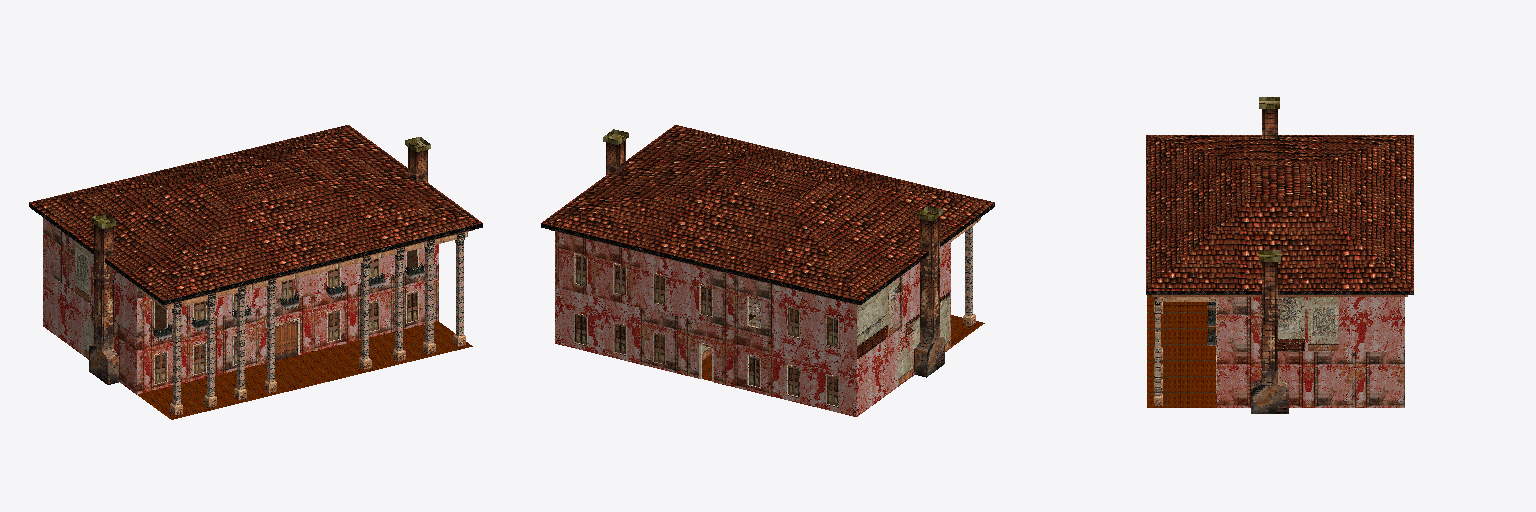
The picture shows the model from 3 angles: view 1: azimuth 30°, elevation 25°; view 2: azimuth 150°, elevation 25°; view 3: azimuth 270°, elevation 25°; orthographic projection.
Visible parts, largest first — view 1: S1Roof01-00.S1Roof01-00_S1Roof01-00, SHHWalls1stFlrOut01-00.SHHWalls1stFlrOut01-00_SHHWalls1stFlrOut0, Plane, SHHWalls2ndFlrOutSde01-00.SHHWalls2ndFlrOutSde01-00_SHHWalls2ndF, S1Chiminey02-00.S1Chiminey02-01.001_S1Chiminey02-00.001, SRoofMoldng01-00.SRoofMoldng01-00_SRoofMoldng01-00, S1pilars01-00.S1pilars01-04.005_S1pilars01-00.018, S1pilars01-00.S1pilars01-04.001_S1pilars01-00.006, S1pilars01-00.S1pilars01-04.004_S1pilars01-00.017, S1pilars01-00.S1pilars01-04_S1pilars01-00, S1pilars01-00.S1pilars01-04.006_S1pilars01-00.019, S1pilars01-00.S1pilars01-04.002_S1pilars01-00.007 (+5 smaller); view 2: S1Roof01-00.S1Roof01-00_S1Roof01-00, SHHWalls1stFlrOut01-00.SHHWalls1stFlrOut01-00_SHHWalls1stFlrOut0, SHHWalls2ndFlrOutSde01-00.SHHWalls2ndFlrOutSde01-00_SHHWalls2ndF, S1Chiminey02-00.S1Chiminey02-01.001_S1Chiminey02-00.001, SHHWallLspiso02-00.SHHWallLspiso02-00_SHHWallLspiso02-00, SHHWallLspiso01-00.SHHWallLspiso01-00_SHHWallLspiso01-00, S1Chiminey02-00.S1Chiminey02-01_S1Chiminey02-00, S1pilars01-00.S1pilars01-04_S1pilars01-00, Plane; view 3: S1Roof01-00.S1Roof01-00_S1Roof01-00, SHHWalls1stFlrOut01-00.SHHWalls1stFlrOut01-00_SHHWalls1stFlrOut0, SHHWalls2ndFlrOutSde01-00.SHHWalls2ndFlrOutSde01-00_SHHWalls2ndF, Plane, S1Chiminey02-00.S1Chiminey02-01_S1Chiminey02-00, SHHWallLspiso02-00.SHHWallLspiso02-00_SHHWallLspiso02-00, S1Chiminey02-00.S1Chiminey02-01.001_S1Chiminey02-00.001, S1pilars01-00.S1pilars01-04.004_S1pilars01-00.017.
Boxes of the visible parts, x1=… form: S1Roof01-00.S1Roof01-00_S1Roof01-00: x1=29, y1=125, x2=482, y2=304; SHHWalls1stFlrOut01-00.SHHWalls1stFlrOut01-00_SHHWalls1stFlrOut0: x1=43, y1=264, x2=438, y2=394; Plane: x1=138, y1=321, x2=472, y2=419; SHHWalls2ndFlrOutSde01-00.SHHWalls2ndFlrOutSde01-00_SHHWalls2ndF: x1=43, y1=218, x2=438, y2=337; S1Chiminey02-00.S1Chiminey02-01.001_S1Chiminey02-00.001: x1=89, y1=213, x2=118, y2=384; SRoofMoldng01-00.SRoofMoldng01-00_SRoofMoldng01-00: x1=137, y1=232, x2=467, y2=309; S1pilars01-00.S1pilars01-04.005_S1pilars01-00.018: x1=423, y1=240, x2=435, y2=353; S1pilars01-00.S1pilars01-04.001_S1pilars01-00.006: x1=204, y1=293, x2=216, y2=407; S1pilars01-00.S1pilars01-04.004_S1pilars01-00.017: x1=453, y1=233, x2=465, y2=346; S1pilars01-00.S1pilars01-04_S1pilars01-00: x1=170, y1=302, x2=182, y2=415; S1pilars01-00.S1pilars01-04.006_S1pilars01-00.019: x1=393, y1=247, x2=405, y2=361; S1pilars01-00.S1pilars01-04.002_S1pilars01-00.007: x1=234, y1=286, x2=246, y2=399; S1Roof01-00.S1Roof01-00_S1Roof01-00: x1=541, y1=125, x2=994, y2=304; SHHWalls1stFlrOut01-00.SHHWalls1stFlrOut01-00_SHHWalls1stFlrOut0: x1=555, y1=287, x2=950, y2=416; SHHWalls2ndFlrOutSde01-00.SHHWalls2ndFlrOutSde01-00_SHHWalls2ndF: x1=555, y1=232, x2=950, y2=359; S1Chiminey02-00.S1Chiminey02-01.001_S1Chiminey02-00.001: x1=915, y1=206, x2=944, y2=377; SHHWallLspiso02-00.SHHWallLspiso02-00_SHHWallLspiso02-00: x1=857, y1=278, x2=898, y2=358; SHHWallLspiso01-00.SHHWallLspiso01-00_SHHWallLspiso01-00: x1=586, y1=293, x2=949, y2=385; S1Chiminey02-00.S1Chiminey02-01_S1Chiminey02-00: x1=603, y1=129, x2=628, y2=174; S1pilars01-00.S1pilars01-04_S1pilars01-00: x1=963, y1=226, x2=975, y2=326; Plane: x1=702, y1=315, x2=984, y2=380; S1Roof01-00.S1Roof01-00_S1Roof01-00: x1=1146, y1=135, x2=1413, y2=296; SHHWalls1stFlrOut01-00.SHHWalls1stFlrOut01-00_SHHWalls1stFlrOut0: x1=1217, y1=352, x2=1404, y2=407; SHHWalls2ndFlrOutSde01-00.SHHWalls2ndFlrOutSde01-00_SHHWalls2ndF: x1=1217, y1=297, x2=1404, y2=351; Plane: x1=1147, y1=295, x2=1216, y2=407; S1Chiminey02-00.S1Chiminey02-01_S1Chiminey02-00: x1=1251, y1=250, x2=1288, y2=413; SHHWallLspiso02-00.SHHWallLspiso02-00_SHHWallLspiso02-00: x1=1261, y1=297, x2=1338, y2=350; S1Chiminey02-00.S1Chiminey02-01.001_S1Chiminey02-00.001: x1=1259, y1=97, x2=1279, y2=138; S1pilars01-00.S1pilars01-04.004_S1pilars01-00.017: x1=1154, y1=297, x2=1162, y2=405.
Size of the model in its own units: 2.18 by 1 by 1.54.
Materials: 119 (79 with a texture image).